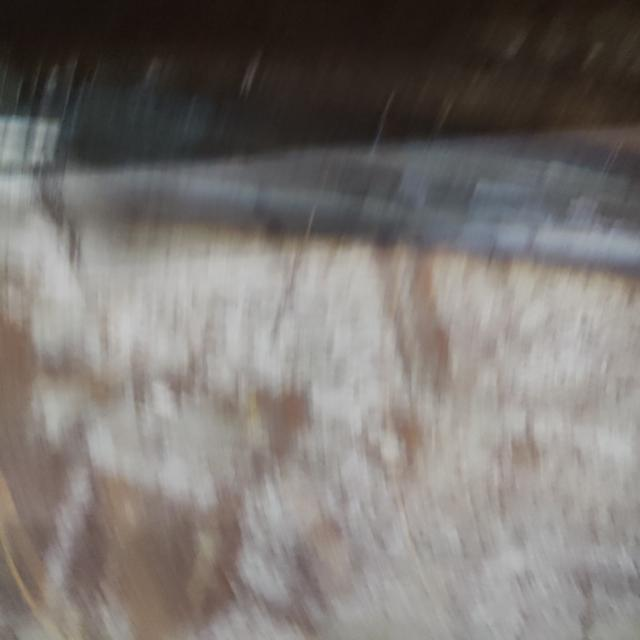seam: (0, 50, 640, 286)
